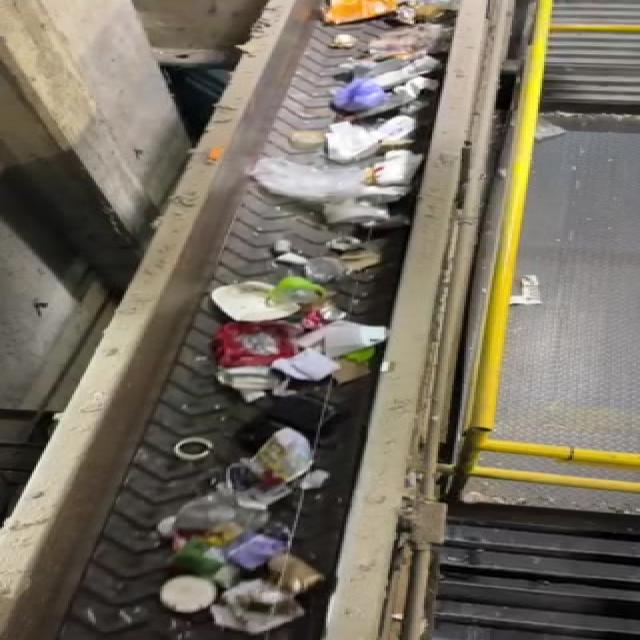pp: (212, 576, 306, 640)
